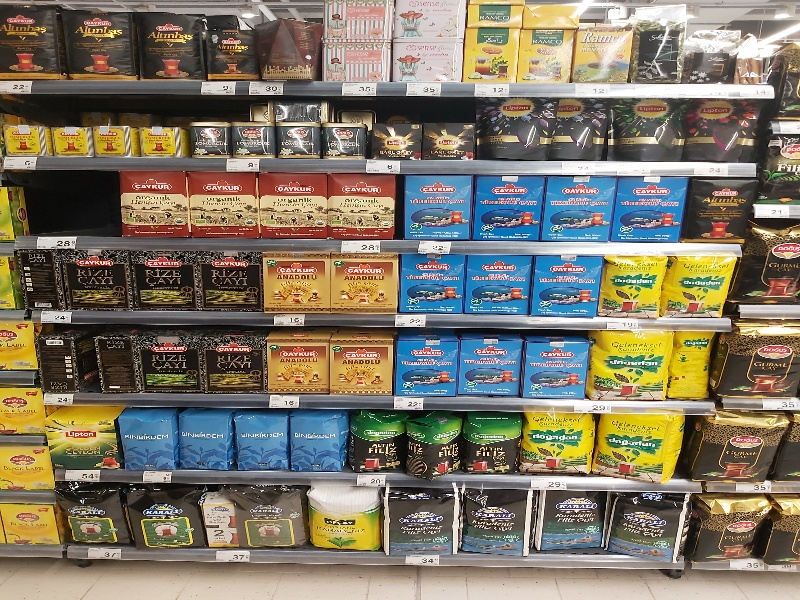urun: (589, 408, 696, 485), (708, 317, 800, 403), (690, 402, 786, 481), (372, 476, 464, 558), (450, 481, 542, 563), (586, 323, 677, 399), (523, 478, 609, 557), (603, 487, 692, 561), (684, 491, 773, 565), (62, 1, 139, 82), (517, 404, 596, 480), (307, 478, 380, 558), (116, 164, 191, 241), (185, 165, 260, 242), (257, 171, 332, 248), (325, 172, 400, 249), (738, 214, 800, 307), (135, 4, 207, 83), (683, 94, 762, 165), (56, 479, 130, 553), (125, 477, 199, 551), (612, 95, 685, 169), (629, 1, 691, 87), (400, 173, 473, 244), (470, 173, 543, 244), (540, 173, 613, 244), (613, 174, 686, 245), (682, 174, 755, 245), (663, 249, 736, 320), (600, 251, 673, 322), (533, 253, 606, 324), (460, 249, 533, 320), (397, 247, 470, 318), (329, 249, 402, 320), (265, 249, 338, 320), (194, 249, 267, 320), (123, 245, 196, 316), (53, 243, 126, 314), (130, 325, 203, 396), (198, 323, 271, 394), (257, 322, 330, 393), (330, 329, 403, 400), (392, 327, 465, 398), (455, 325, 528, 396), (519, 328, 592, 399), (676, 11, 743, 87), (1, 1, 60, 84), (461, 402, 524, 476), (401, 403, 464, 477), (344, 404, 407, 478), (479, 100, 555, 160), (542, 100, 618, 160), (253, 12, 320, 80), (41, 405, 117, 464), (285, 405, 348, 475), (231, 403, 294, 473), (173, 401, 236, 471), (117, 400, 180, 470), (192, 477, 246, 558), (247, 478, 301, 559), (666, 326, 715, 406), (1, 491, 66, 551), (389, 39, 470, 87), (462, 24, 522, 88), (513, 22, 573, 86), (575, 25, 635, 89), (200, 19, 260, 82), (317, 1, 397, 47), (320, 37, 393, 82), (387, 1, 469, 39), (1, 444, 54, 494), (423, 117, 479, 157), (1, 383, 41, 433), (42, 120, 98, 154), (87, 120, 142, 154), (137, 121, 192, 155), (177, 119, 232, 153), (220, 117, 275, 151), (272, 119, 325, 154), (321, 120, 374, 155), (369, 120, 422, 155), (1, 121, 55, 155)
